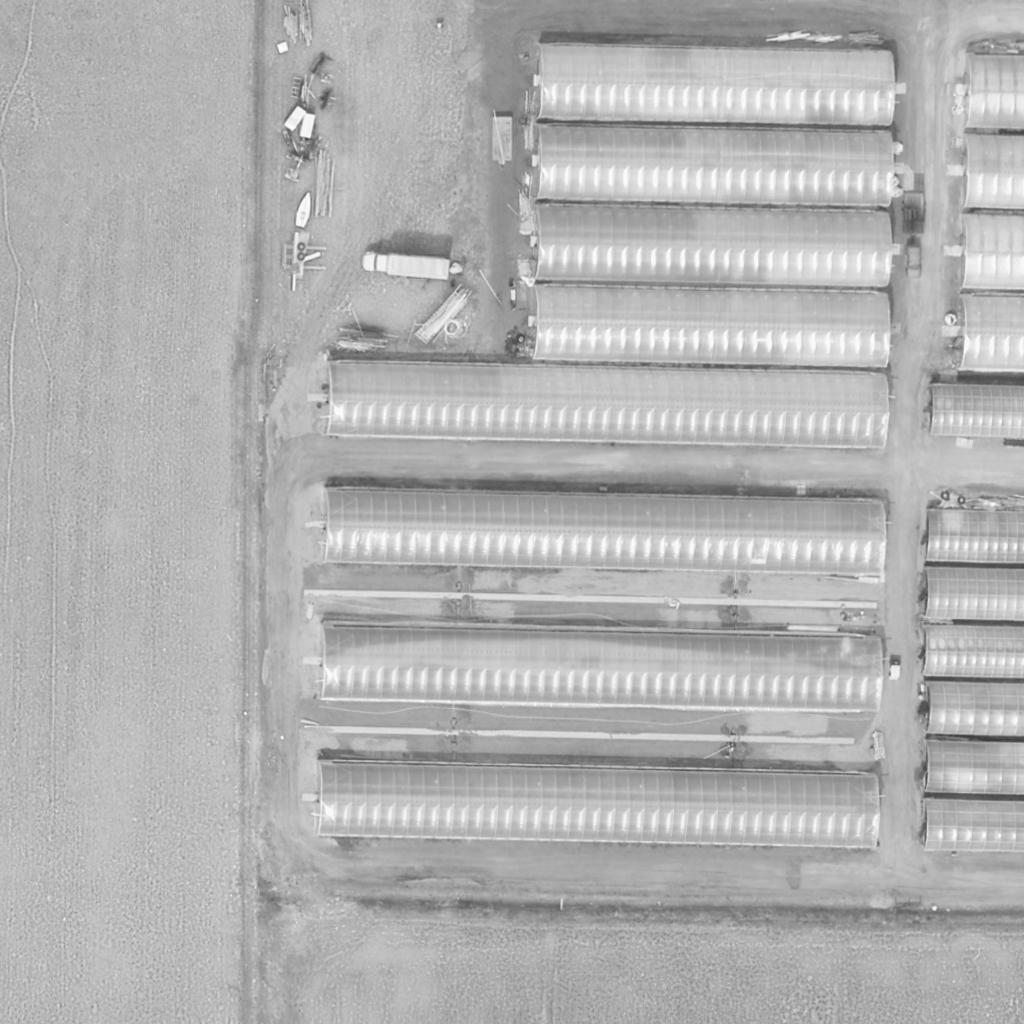vehicle: (362, 250, 450, 282), (293, 191, 317, 229), (904, 248, 922, 278)
